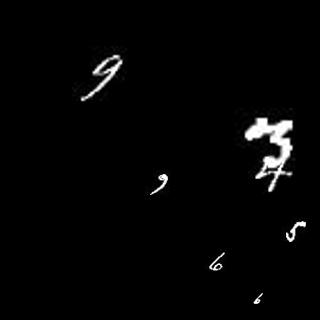five: (282, 218, 311, 245)
four: (255, 158, 288, 192)
nine: (80, 53, 122, 100), (151, 170, 167, 196)
six: (208, 252, 230, 271), (251, 289, 262, 307)
three: (263, 115, 299, 165)
